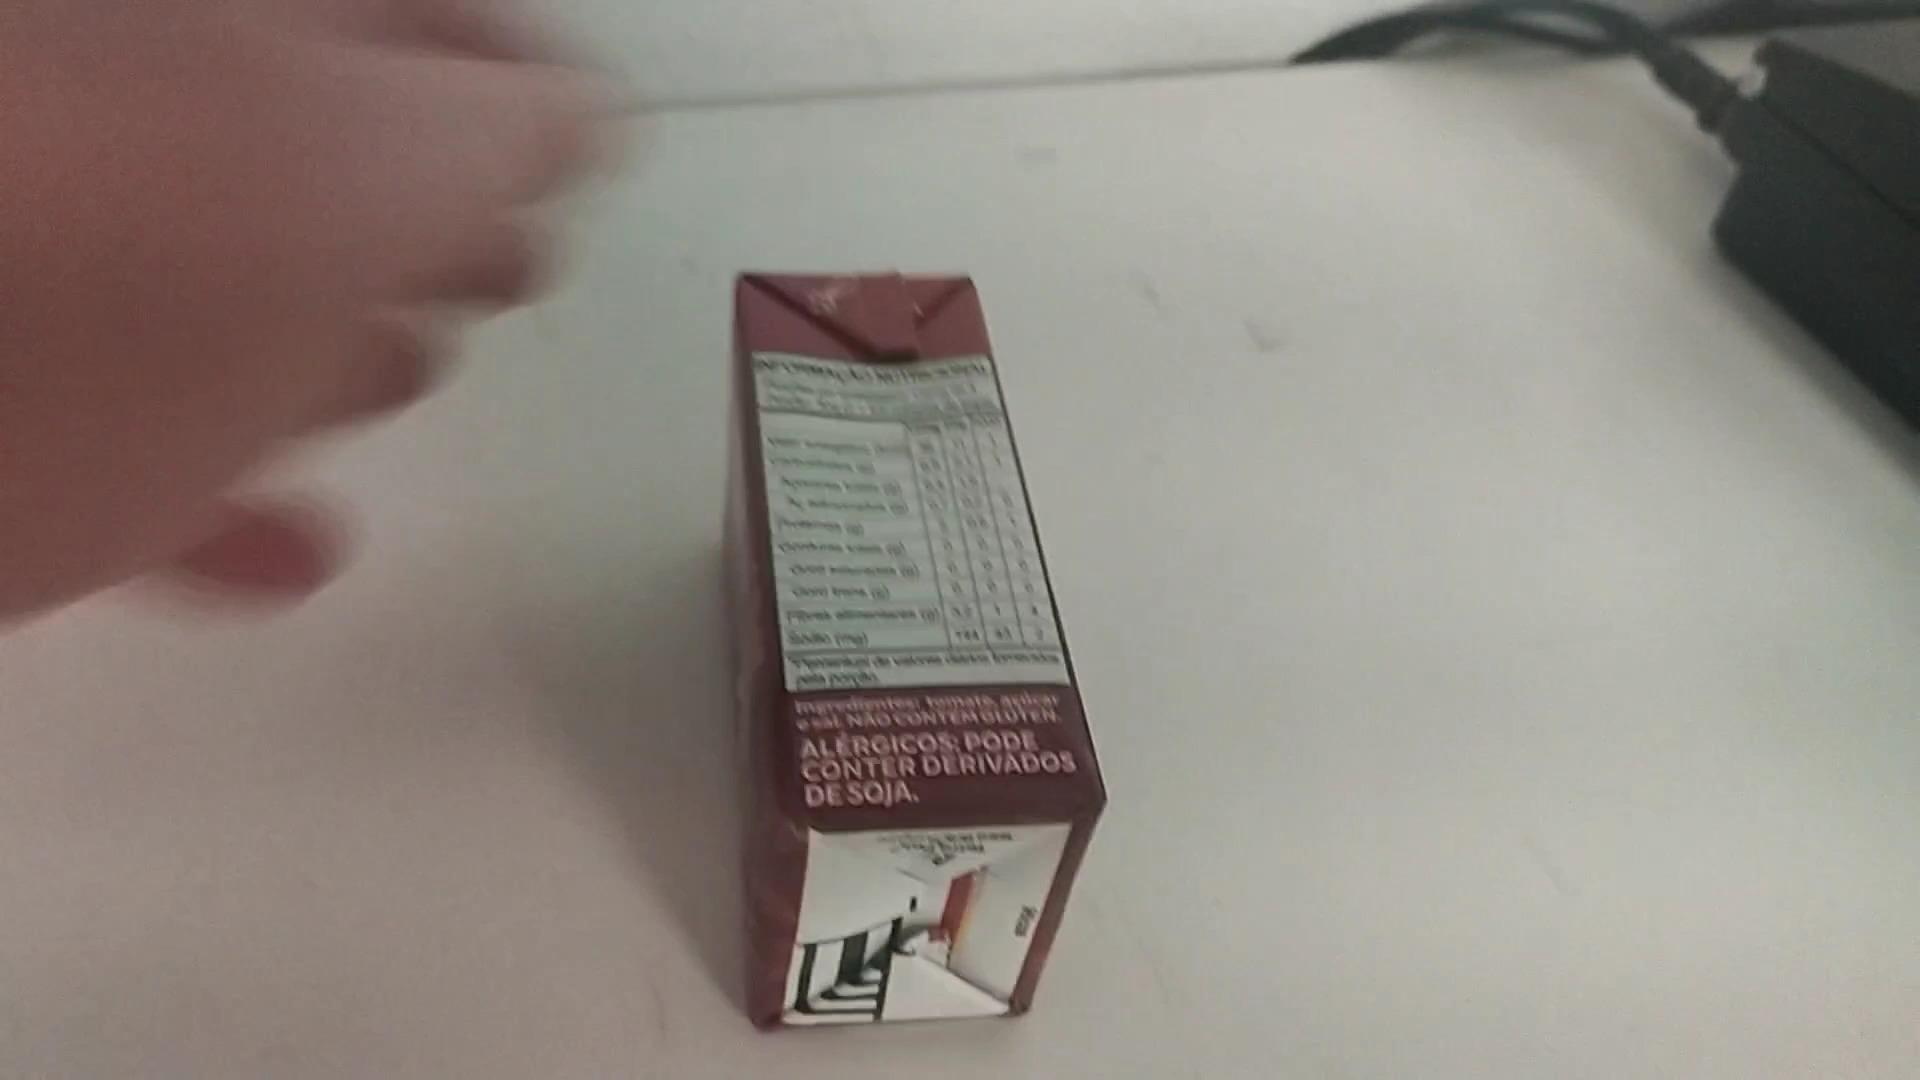tomate: (684, 167, 1117, 1026)
